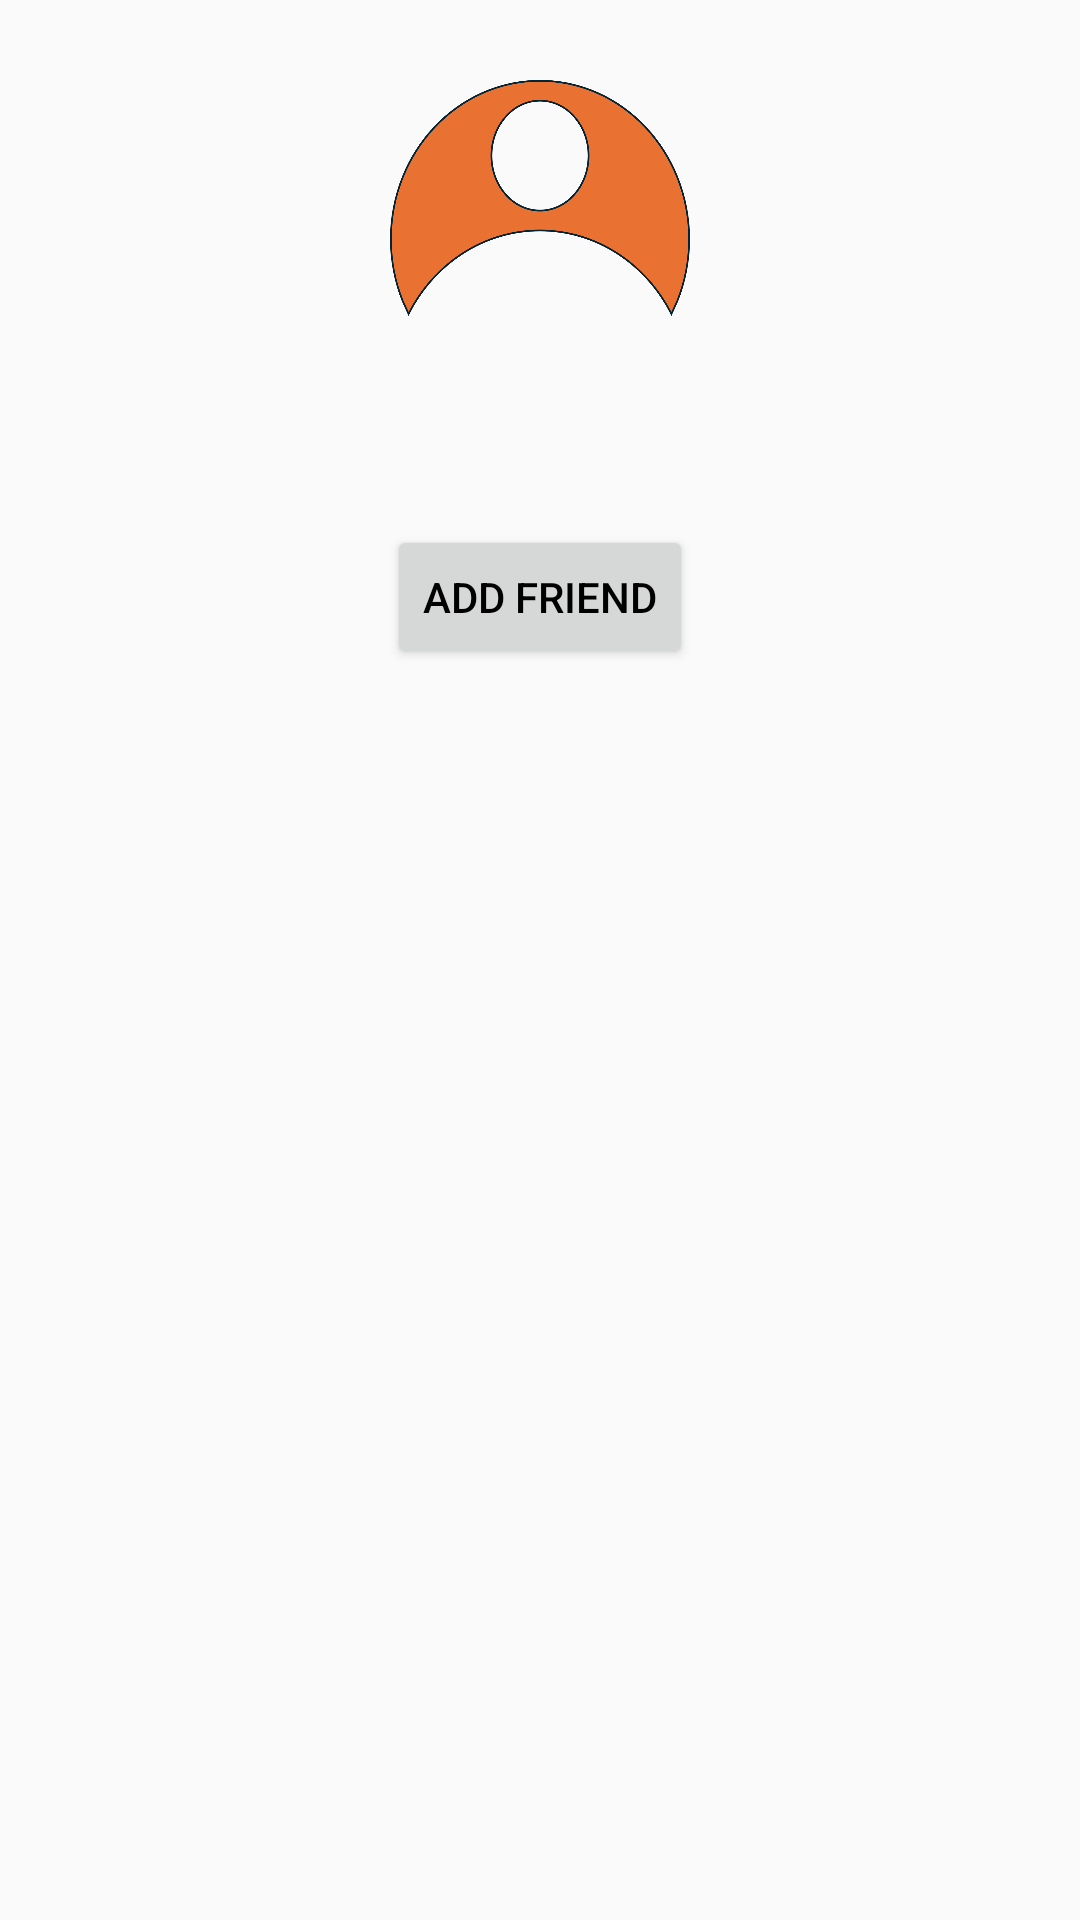

Screen size 1080 x 1920. Icon name, then its center in pixels as point (x, y):
profile pin: point (540, 198)
